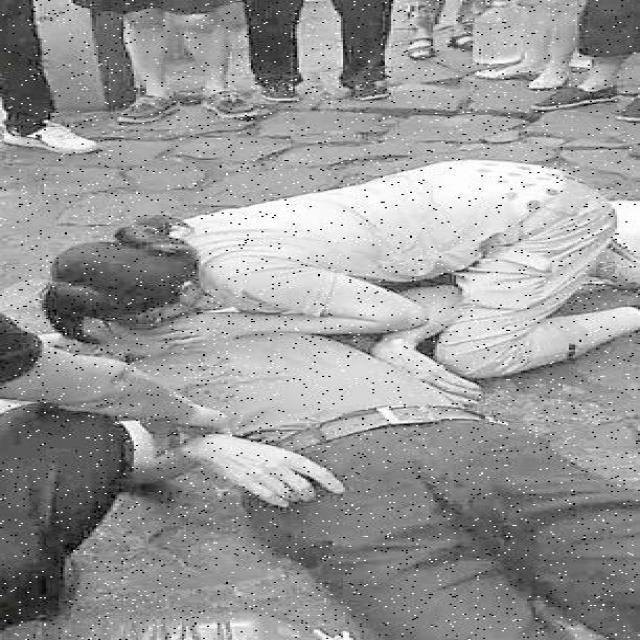fall: (111, 309, 638, 624)
